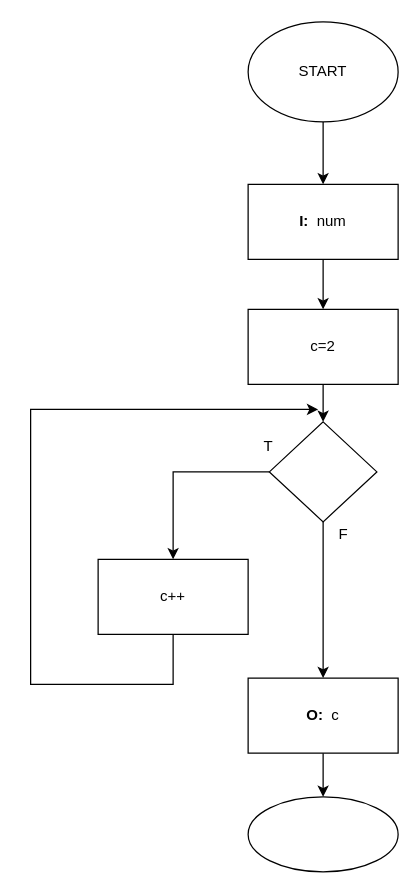
Some shapes in this 420 by 894 pixel diagram are drawn without their labels. The centre of each missing label's shape, as x and y in pixels:
END: the point at 322,834
While num%c!=0: the point at 322,471
